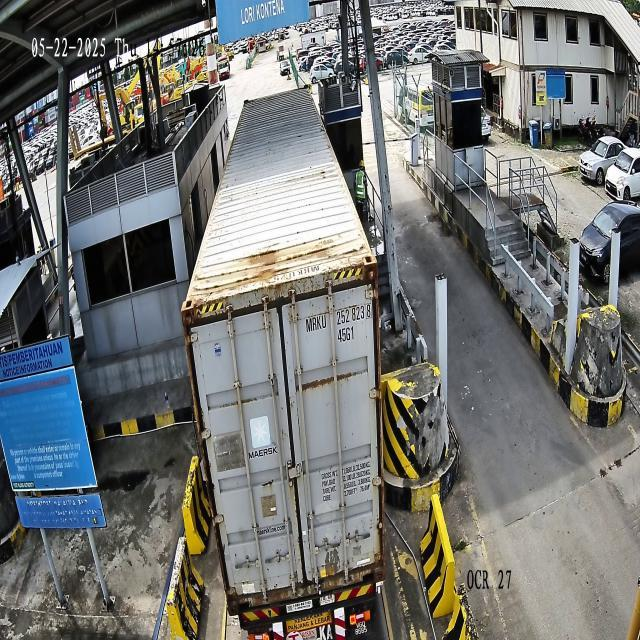ISO: (338, 326, 354, 344)
container_number: (306, 303, 372, 331)
